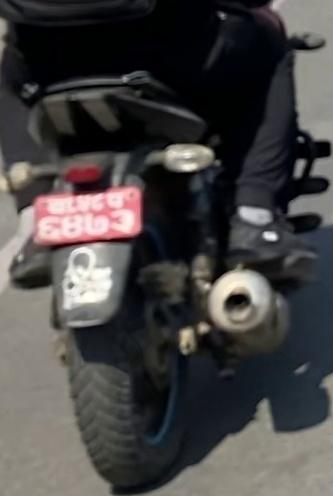license-plate: (18, 184, 157, 246)
